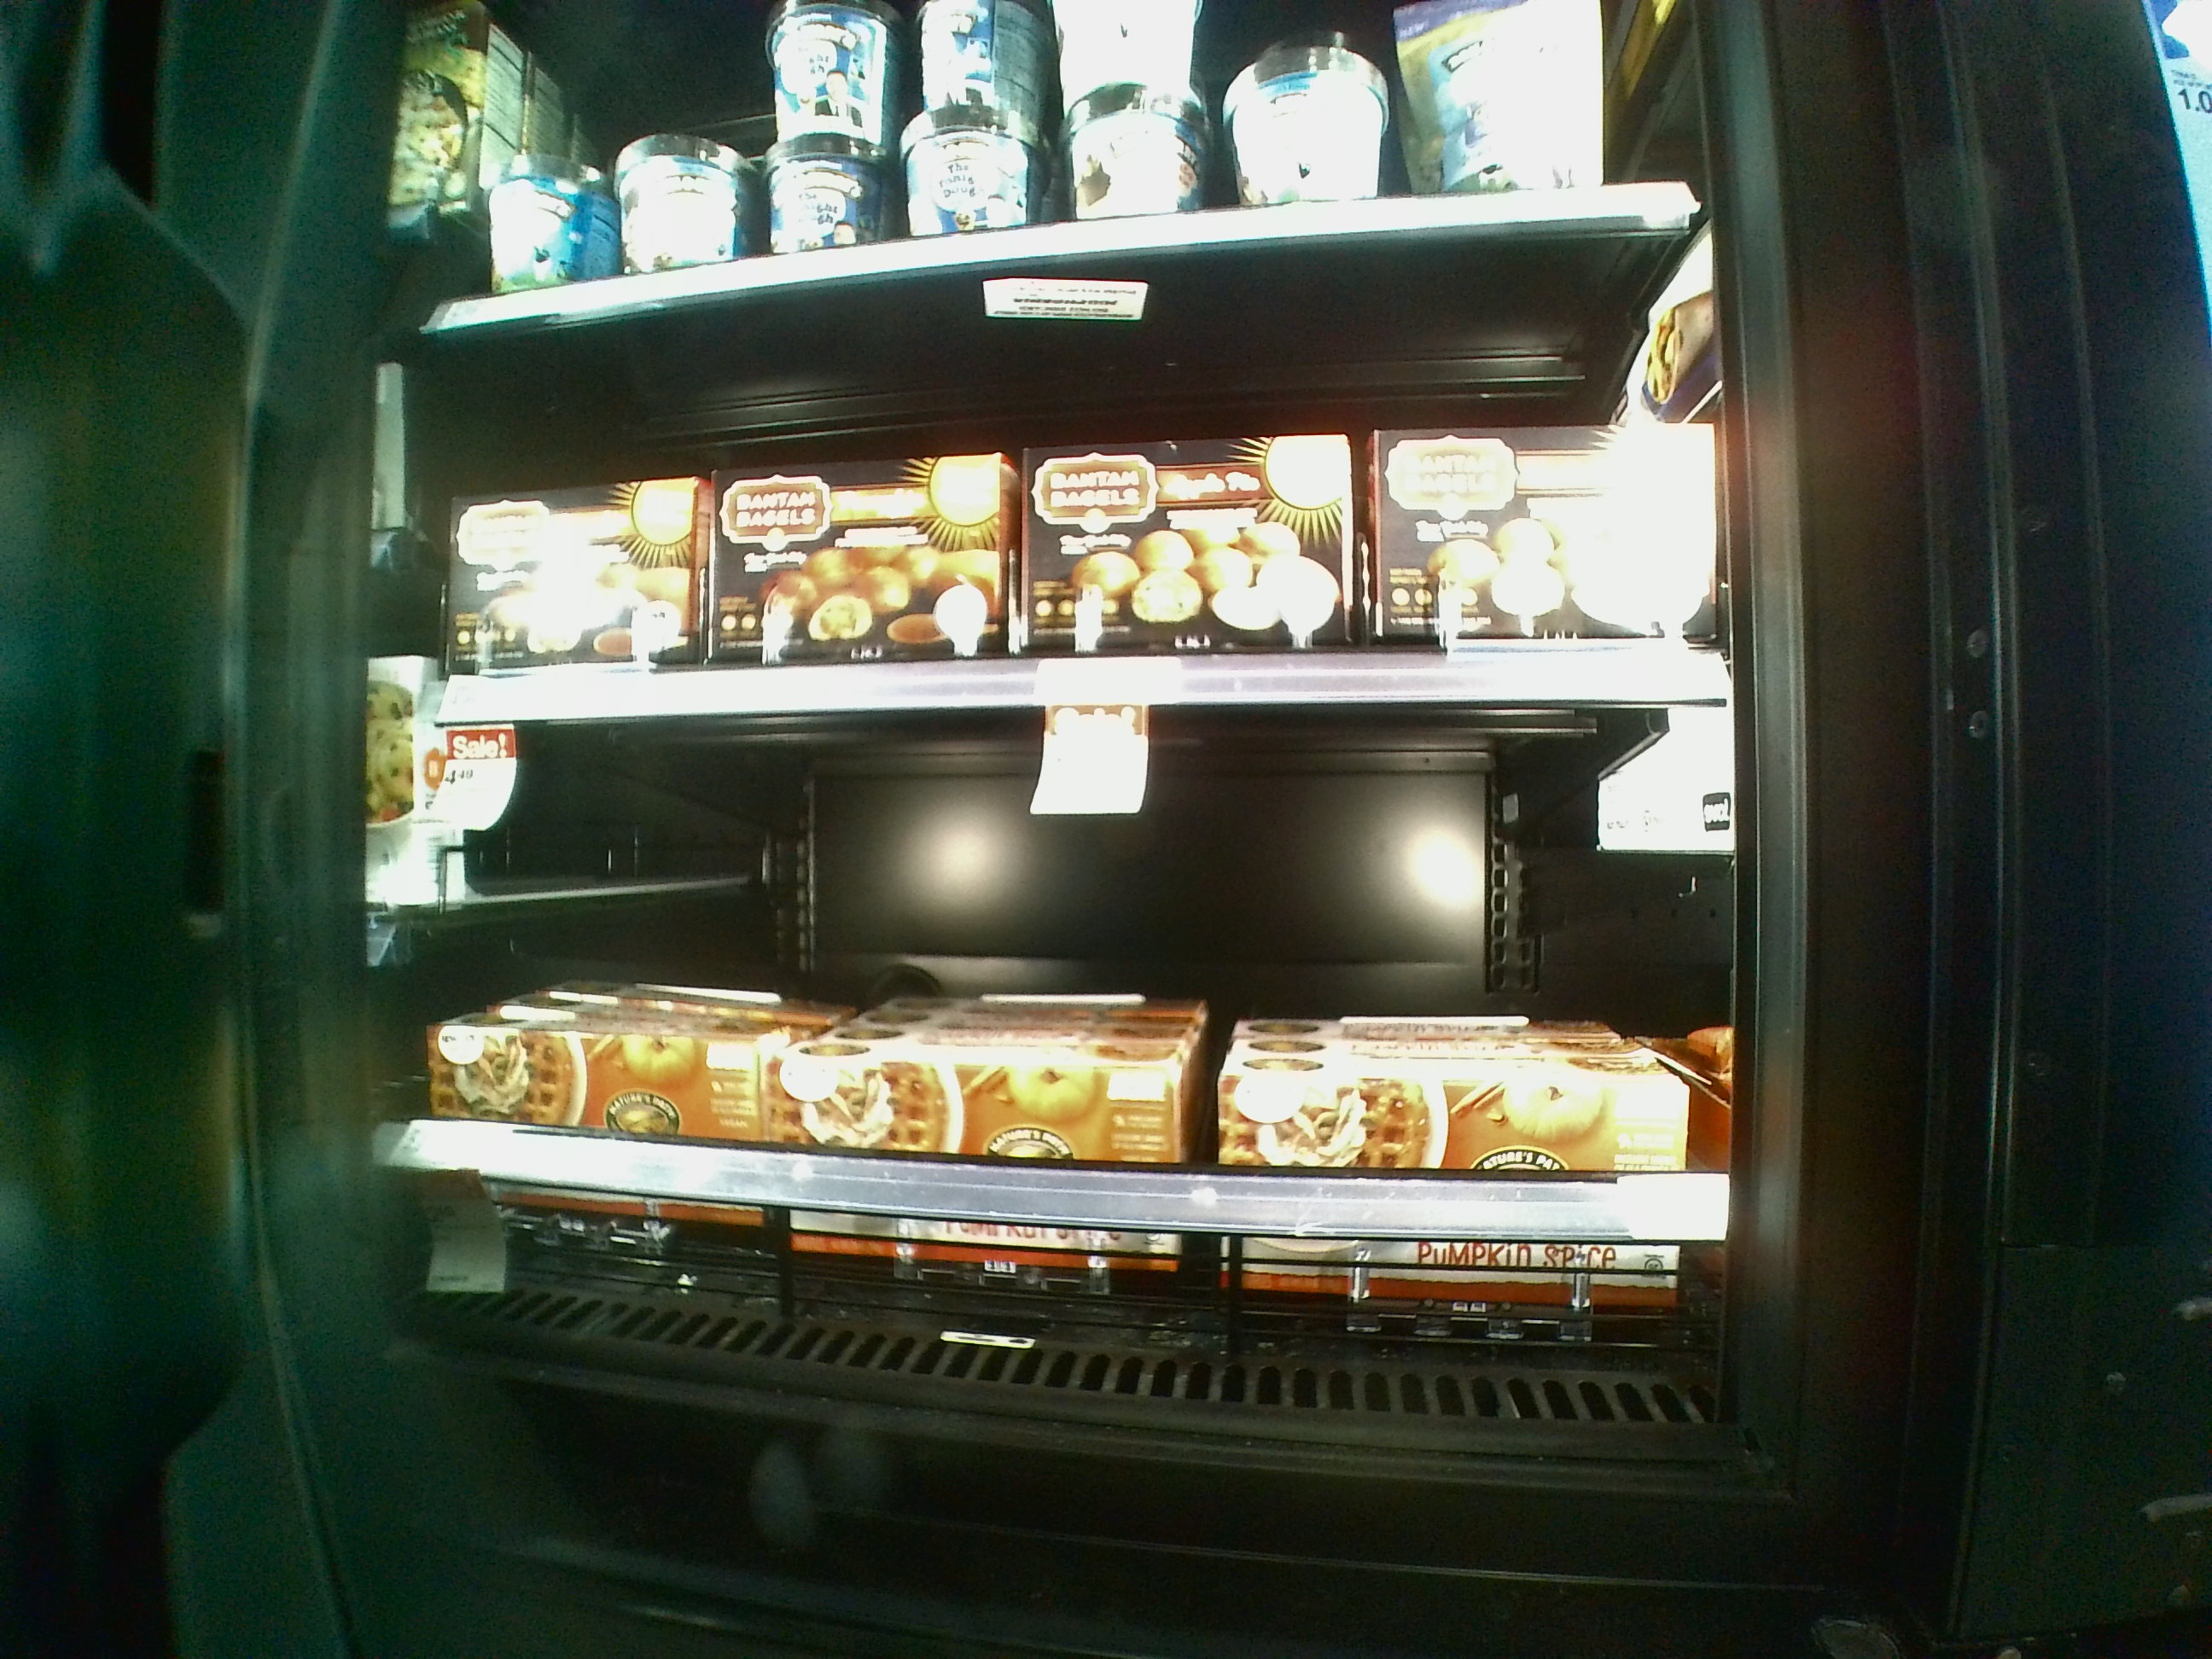shelf: (404, 699, 1743, 1459), (413, 314, 1730, 704)
